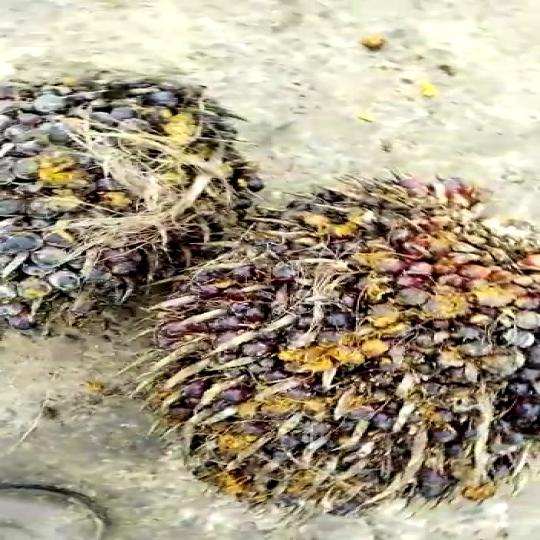kurang masak: (155, 175, 540, 514), (0, 63, 256, 320)
